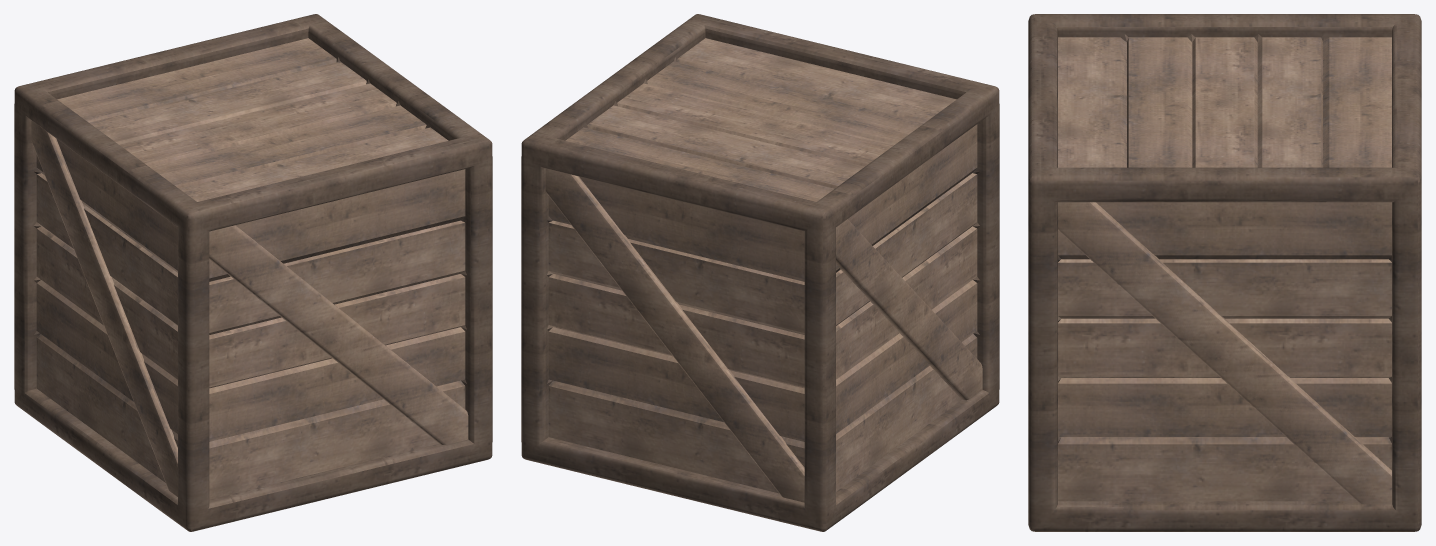
The model's file is obj_simple_classic_crate_d77492.glb.
3 views of the same model, side by side, from view 1: azimuth 30°, elevation 25°; view 2: azimuth 150°, elevation 25°; view 3: azimuth 270°, elevation 25° (orthographic). The views are drawn at different scales.
Visible parts, largest first — view 1: obj_simple_classic_crate_d77492; view 2: obj_simple_classic_crate_d77492; view 3: obj_simple_classic_crate_d77492.
Part boxes in pixels (<box>): obj_simple_classic_crate_d77492: <box>14,14,492,531</box>; obj_simple_classic_crate_d77492: <box>521,14,999,531</box>; obj_simple_classic_crate_d77492: <box>1028,14,1421,531</box>.
Bounding box in the file's own units: 0.5 × 0.5 × 0.5.
1 material, 1 textured.
